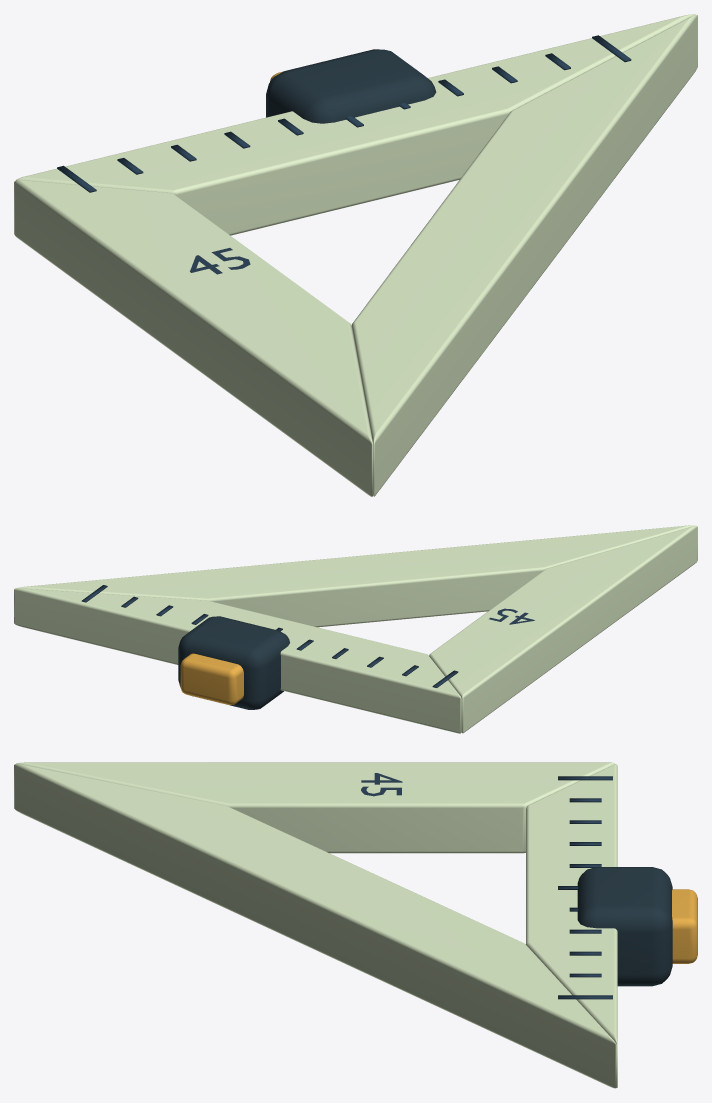
Rendered from part_triangle_ruler.glb.
3 renders of one model, top to bottom at view 1: azimuth 30°, elevation 25°; view 2: azimuth 150°, elevation 25°; view 3: azimuth 270°, elevation 25°, orthographic. The views are drawn at different scales.
Parts seen in each view (by area): view 1: Triangle frame edge 1, Triangle frame edge 2, Triangle frame edge 0, Universal rubber mounting pad.006; view 2: Triangle frame edge 1, Triangle frame edge 0, Triangle frame edge 2, Universal rubber mounting pad.006, Snap-in brass tongue.006; view 3: Triangle frame edge 1, Triangle frame edge 2, Triangle frame edge 0, Universal rubber mounting pad.006, Snap-in brass tongue.006.
Part boxes in pixels (box(x1,y1,x2,y2)): Triangle frame edge 1: box(351, 14, 697, 496); Triangle frame edge 2: box(14, 180, 372, 496); Triangle frame edge 0: box(16, 14, 695, 235); Universal rubber mounting pad.006: box(266, 49, 436, 123); Triangle frame edge 1: box(14, 525, 695, 627); Triangle frame edge 0: box(14, 588, 461, 733); Triangle frame edge 2: box(429, 526, 697, 733); Universal rubber mounting pad.006: box(178, 616, 289, 709); Snap-in brass tongue.006: box(180, 653, 243, 705); Triangle frame edge 1: box(14, 764, 616, 1088); Triangle frame edge 2: box(14, 762, 615, 853); Triangle frame edge 0: box(526, 764, 617, 1088); Universal rubber mounting pad.006: box(577, 867, 672, 986); Snap-in brass tongue.006: box(672, 889, 697, 963).
Bounding box in the file's own units: 0.0289 × 0.0038 × 0.0298.
